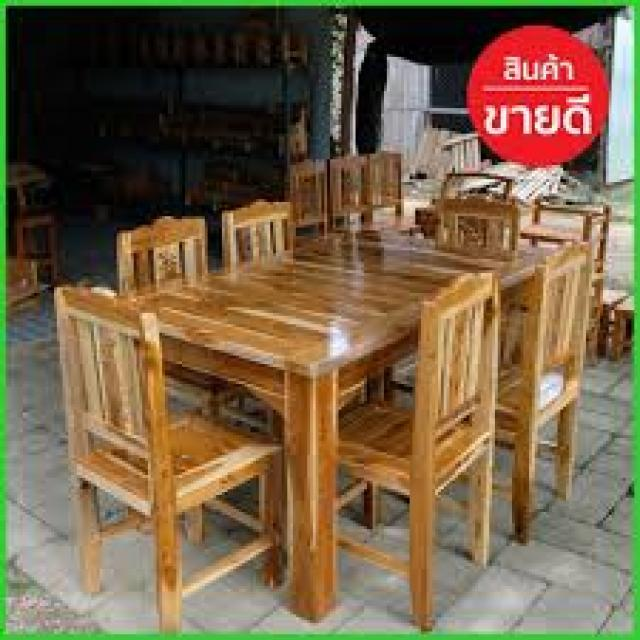table: (95, 200, 582, 388)
